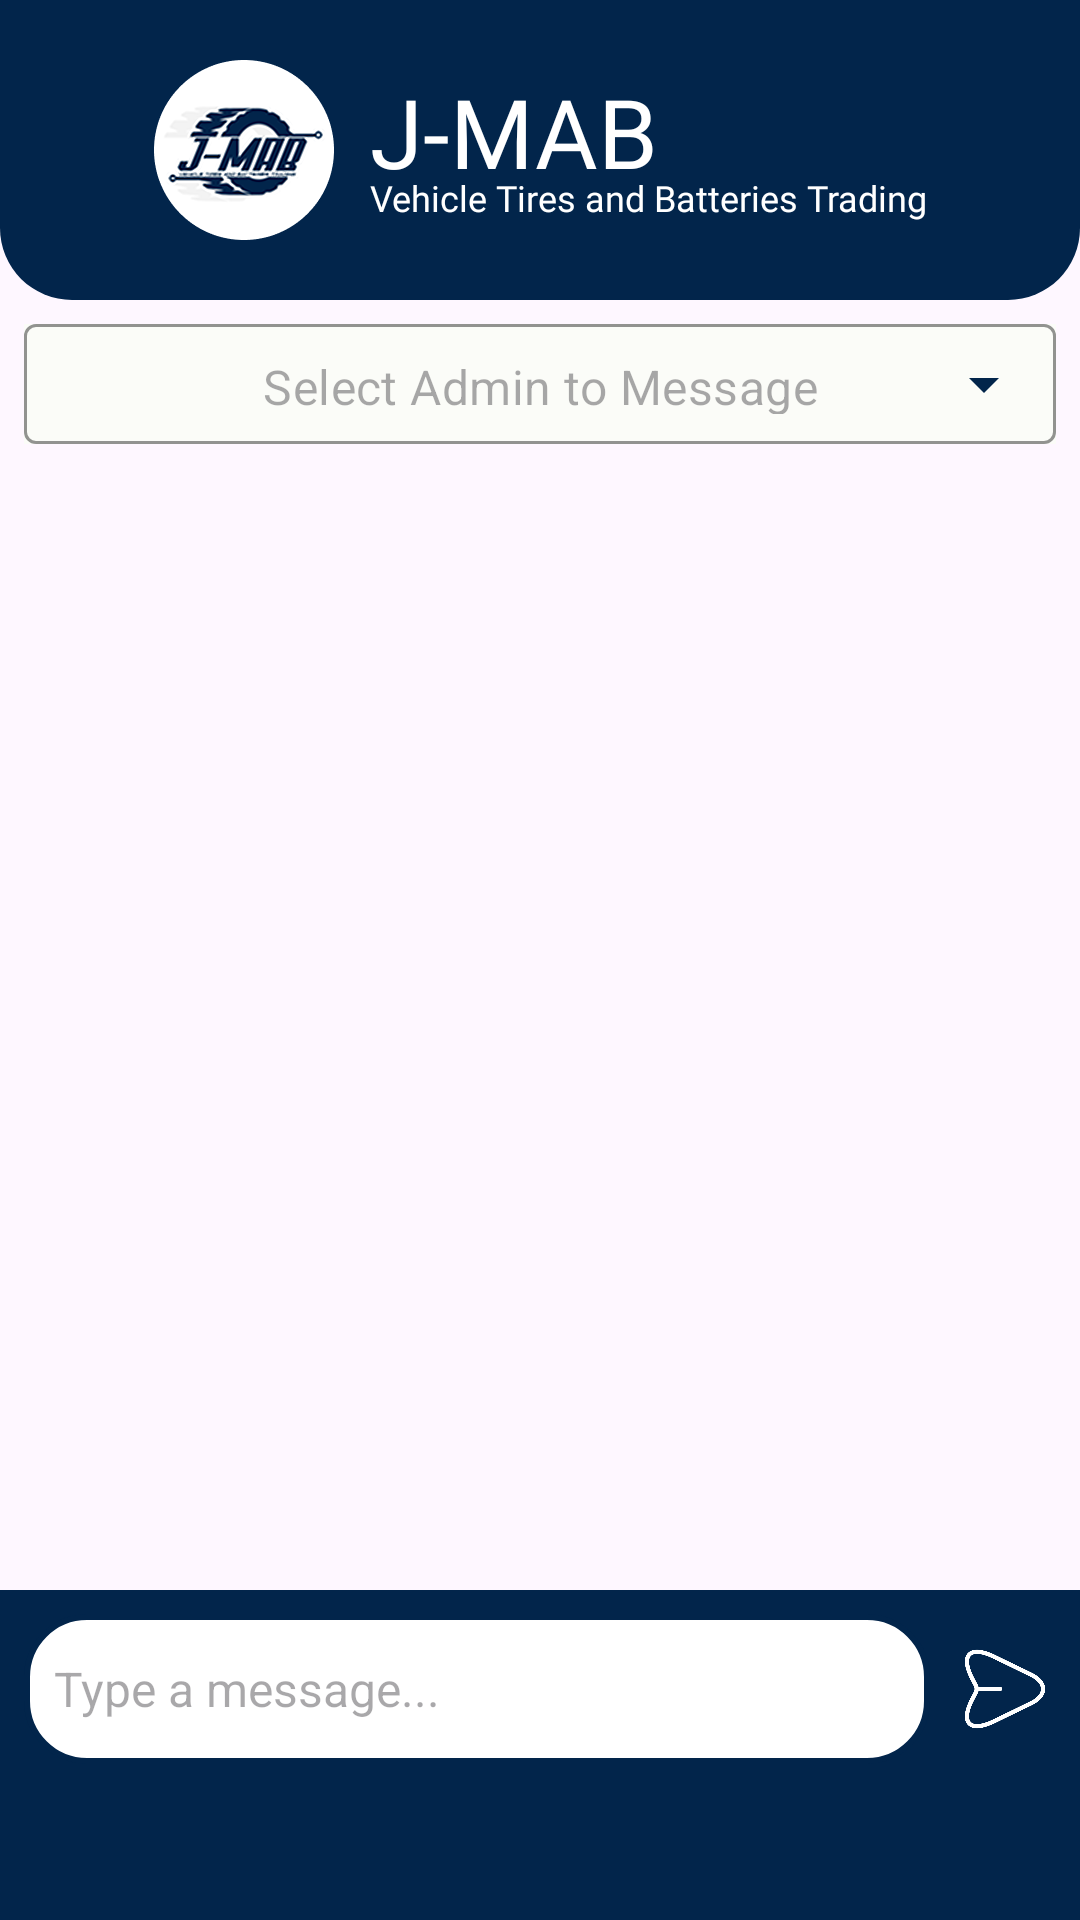

Named icons in this screenshot (1080w x 1920h) and their centers, [x,y]:
send: [1005,1689]
